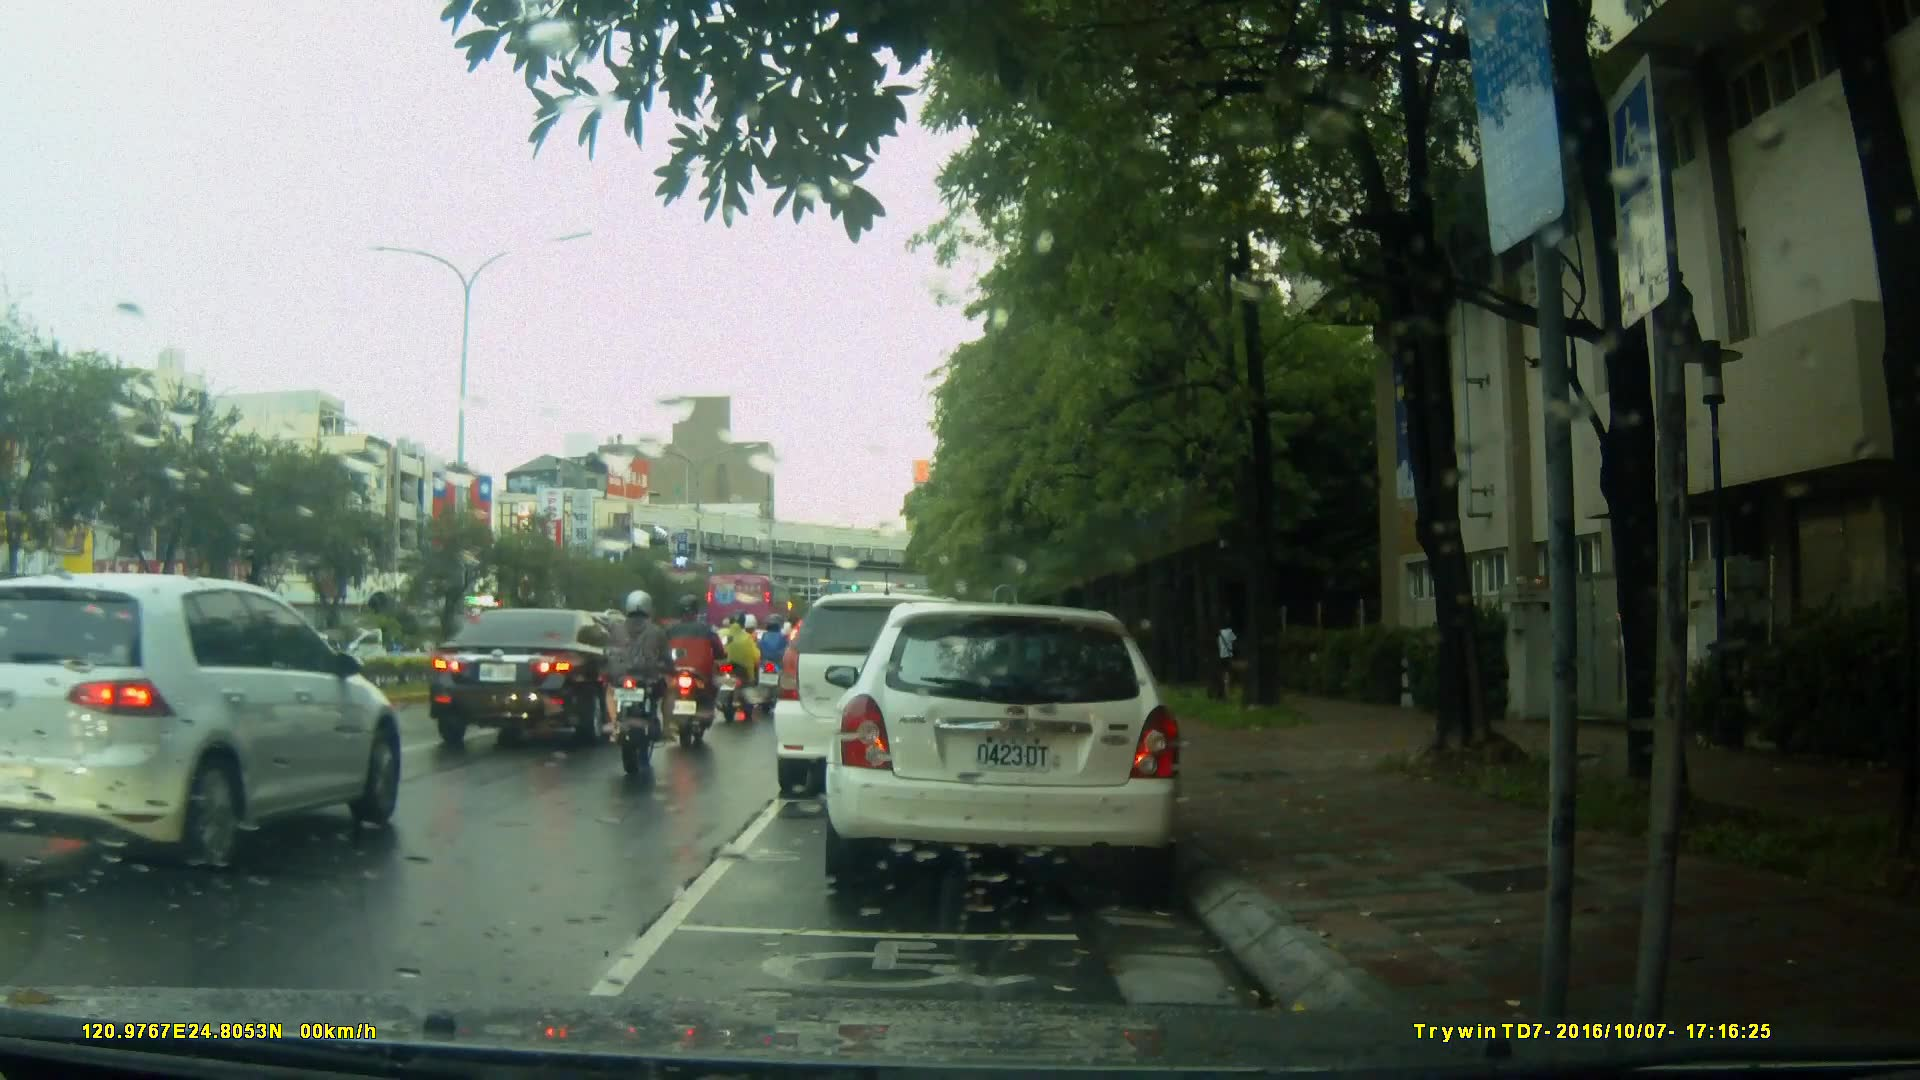pedestrian: (1212, 615, 1241, 696)
rider: (599, 588, 674, 796), (669, 592, 729, 752), (713, 608, 763, 732), (755, 610, 800, 714)
vehicle: (5, 568, 414, 874), (835, 594, 1194, 898), (776, 590, 1026, 784), (428, 605, 661, 755), (702, 572, 794, 648)
